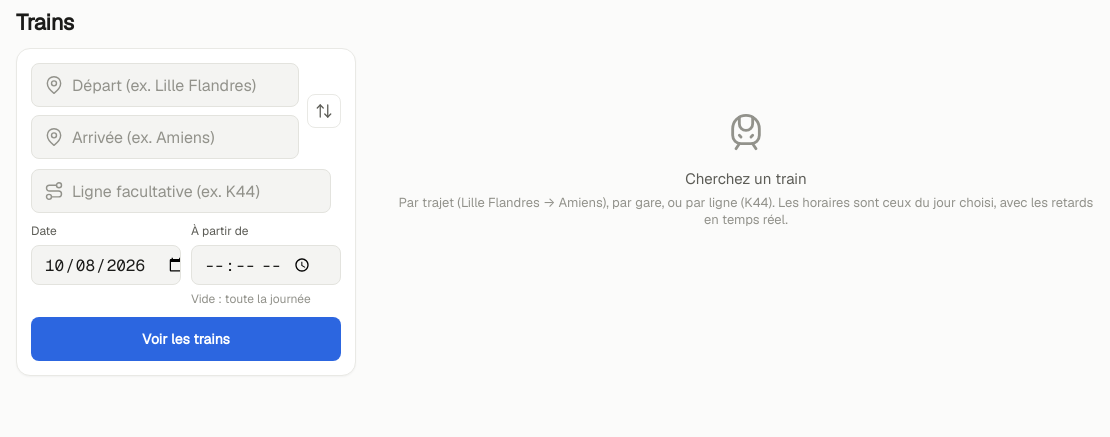
page Trains › recherche sans critère : message, aucun appel
Click the button "Voir les trains": (186, 339) [31,317,341,361]
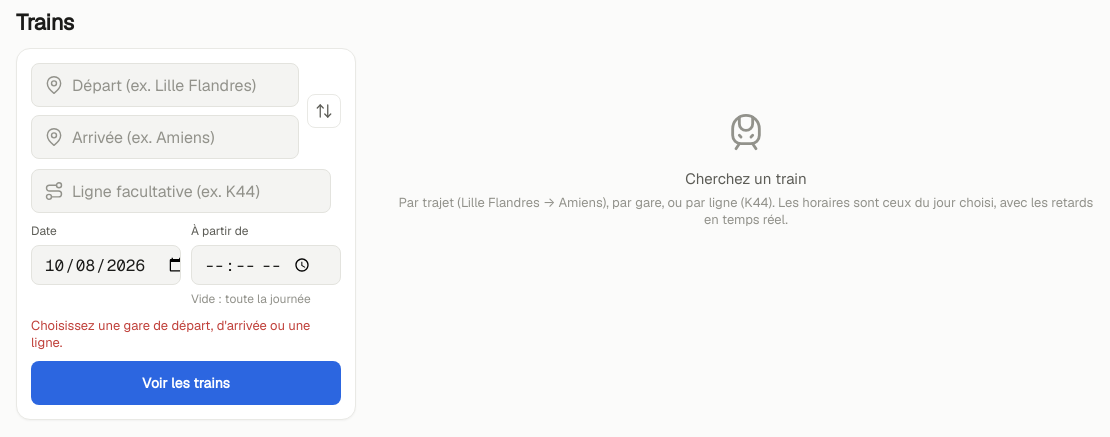
Check: the message shows "Choisissez", box [31,317,310,351]
